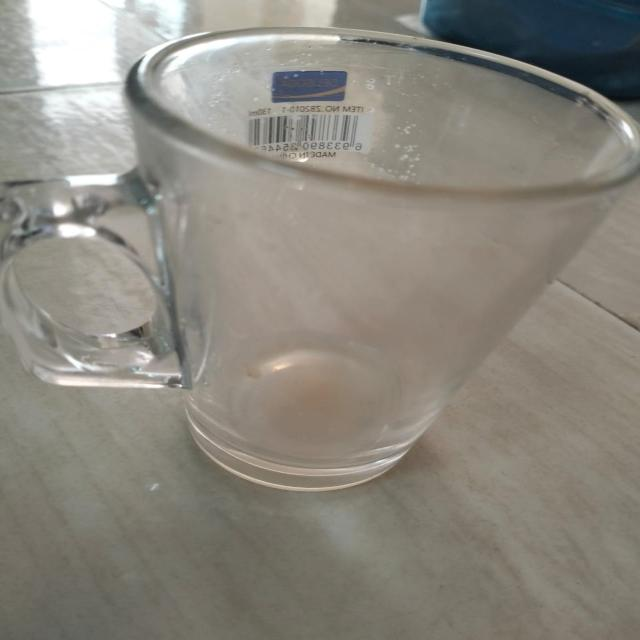glass-VX4N: (0, 26, 640, 491)
